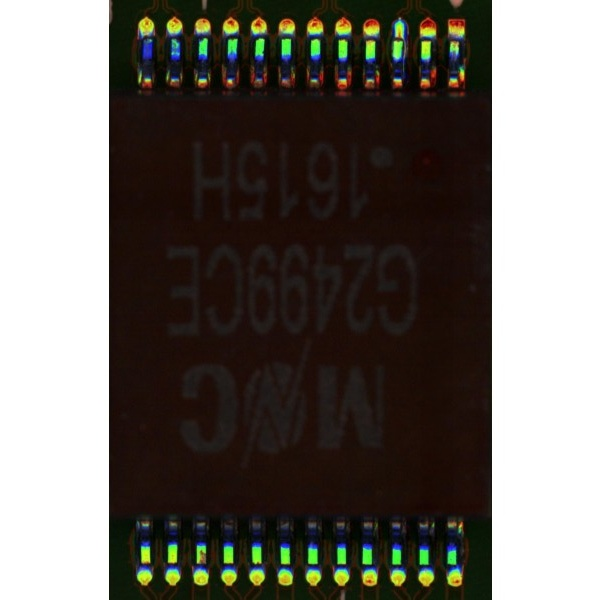Bad_podu: (394, 28, 402, 48)
